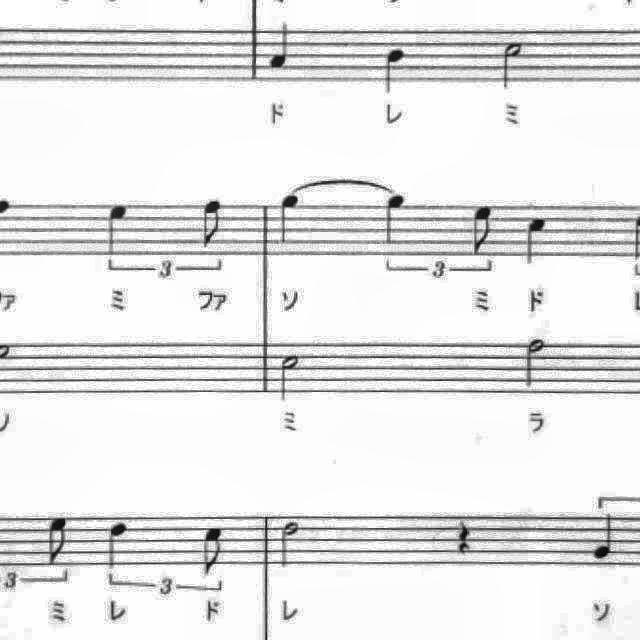Eighth-note: (196, 521, 232, 581), (466, 200, 502, 260), (193, 193, 230, 251), (42, 508, 76, 568)
Half-note: (494, 36, 530, 96), (274, 349, 308, 407), (522, 333, 554, 393), (274, 516, 306, 572)
Quarter-note: (99, 198, 135, 262), (376, 43, 414, 101), (98, 514, 134, 574), (518, 212, 554, 272), (272, 190, 308, 250), (264, 15, 300, 73), (586, 508, 622, 564), (378, 190, 410, 250)
Quarter-rest: (451, 514, 483, 562)
